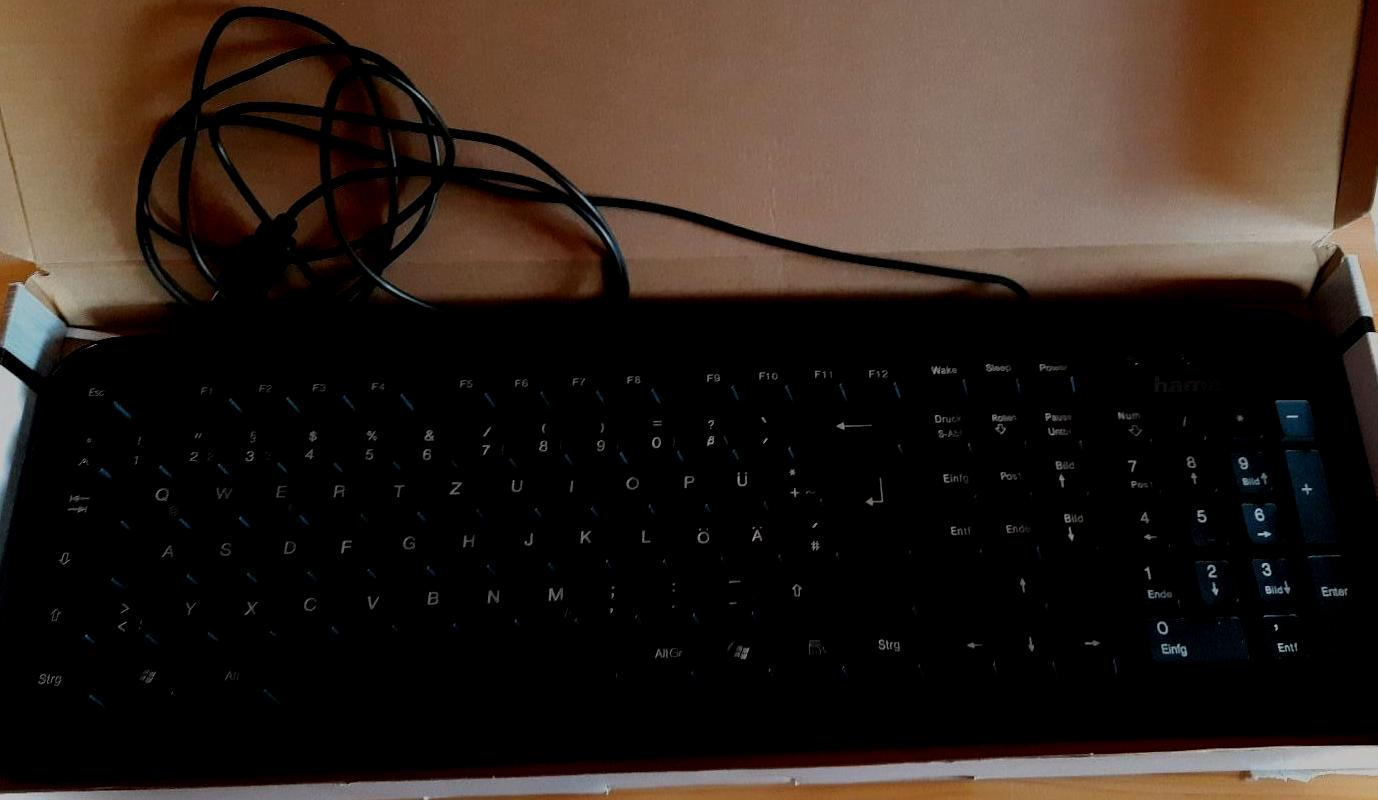0: (637, 412, 677, 457)
1: (121, 425, 166, 472)
2: (179, 425, 222, 467)
3: (234, 423, 279, 471)
4: (288, 419, 336, 468)
5: (346, 420, 394, 469)
6: (407, 414, 454, 467)
7: (466, 415, 507, 463)
8: (522, 413, 568, 464)
9: (579, 414, 624, 459)
a: (148, 534, 193, 579)
accent: (747, 409, 794, 454)
ae: (736, 514, 777, 563)
alt-left: (187, 649, 270, 700)
altgr-right: (631, 630, 694, 685)
b: (410, 581, 454, 630)
c: (286, 585, 335, 633)
caret: (63, 428, 107, 472)
comma: (593, 573, 641, 621)
d: (257, 533, 311, 575)
del: (802, 406, 898, 454)
e: (255, 477, 303, 520)
enter: (834, 458, 909, 562)
f: (325, 530, 369, 574)
g: (386, 527, 428, 571)
h: (445, 526, 487, 567)
hash: (794, 512, 835, 560)
i: (551, 469, 597, 512)
j: (507, 522, 549, 567)
k: (566, 520, 605, 566)
keyboard: (1, 322, 1378, 783)
l: (623, 520, 663, 566)
less: (102, 593, 151, 639)
m: (536, 577, 579, 623)
minus: (711, 569, 758, 620)
n: (470, 579, 516, 625)
o: (609, 467, 655, 510)
oe: (681, 516, 721, 563)
p: (666, 465, 711, 511)
plus: (777, 460, 821, 508)
point: (652, 572, 698, 622)
q: (139, 480, 184, 522)
r: (317, 476, 362, 520)
s: (205, 532, 247, 579)
shift-left: (29, 595, 94, 640)
shift-lock: (37, 536, 125, 584)
shift-right: (769, 568, 911, 615)
space: (276, 637, 620, 703)
ss: (693, 412, 733, 455)
strg-left: (9, 655, 97, 712)
strg-right: (857, 623, 923, 676)
t: (378, 476, 417, 517)
tab: (47, 483, 128, 527)
u: (495, 472, 540, 514)
ue: (722, 461, 769, 508)
v: (348, 583, 394, 631)
w: (190, 478, 243, 521)
x: (222, 590, 272, 637)
y: (170, 592, 216, 638)
z: (433, 471, 482, 515)
